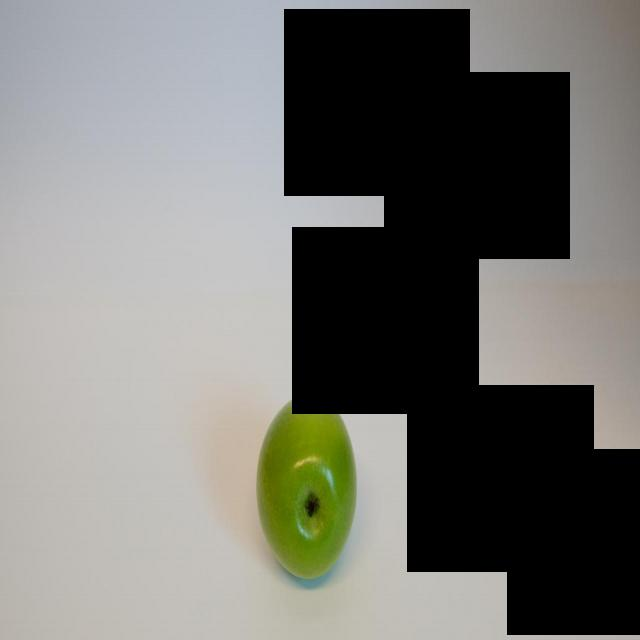apple: (253, 388, 359, 582)
